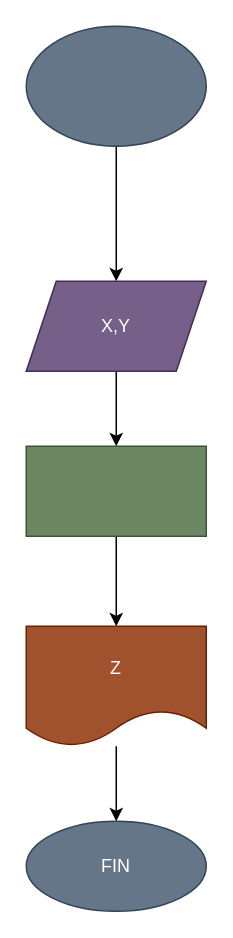
Some shapes in this 233 by 938 pixel diagram are drawn without their labels. Here are the shapes that lost their labels. From the top down, the centre of each, then its label:
[115,85]: INICIO
[115,490]: Z=X ^ Y
